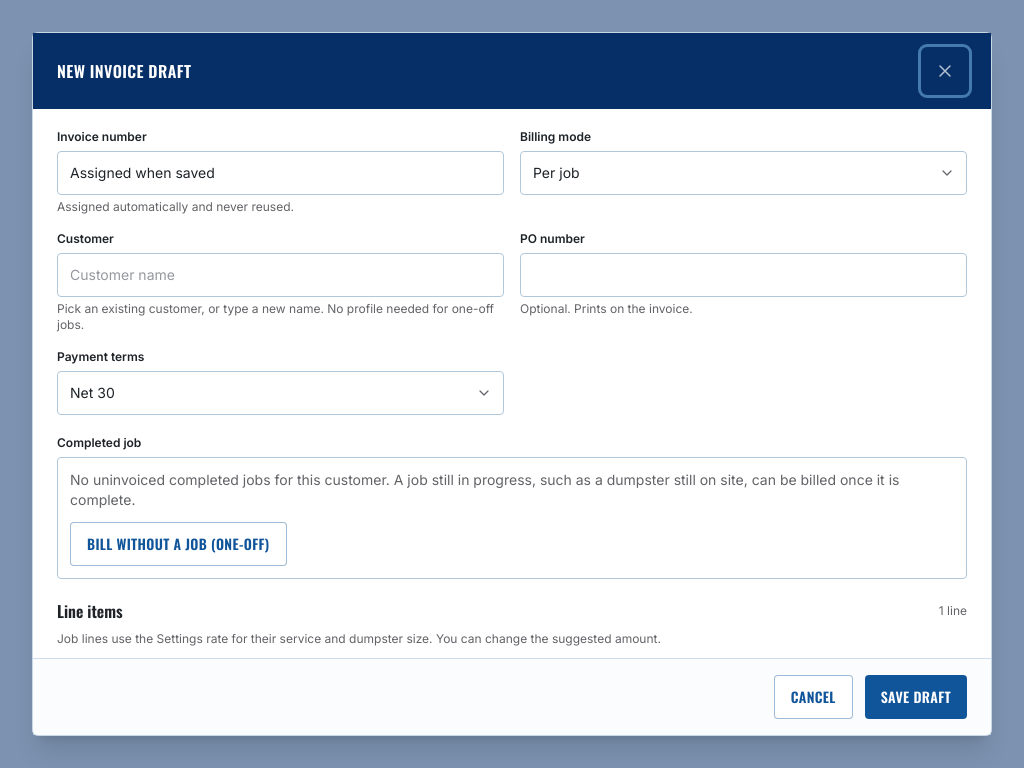
Test case: InvoiceModal — multi-job statement › fills the billing address from the selected job's site in one click
Type "Vegas GC" into the field labelled "Customer" at x=280, y=275, box [57,253,504,297]
(page scrolled)
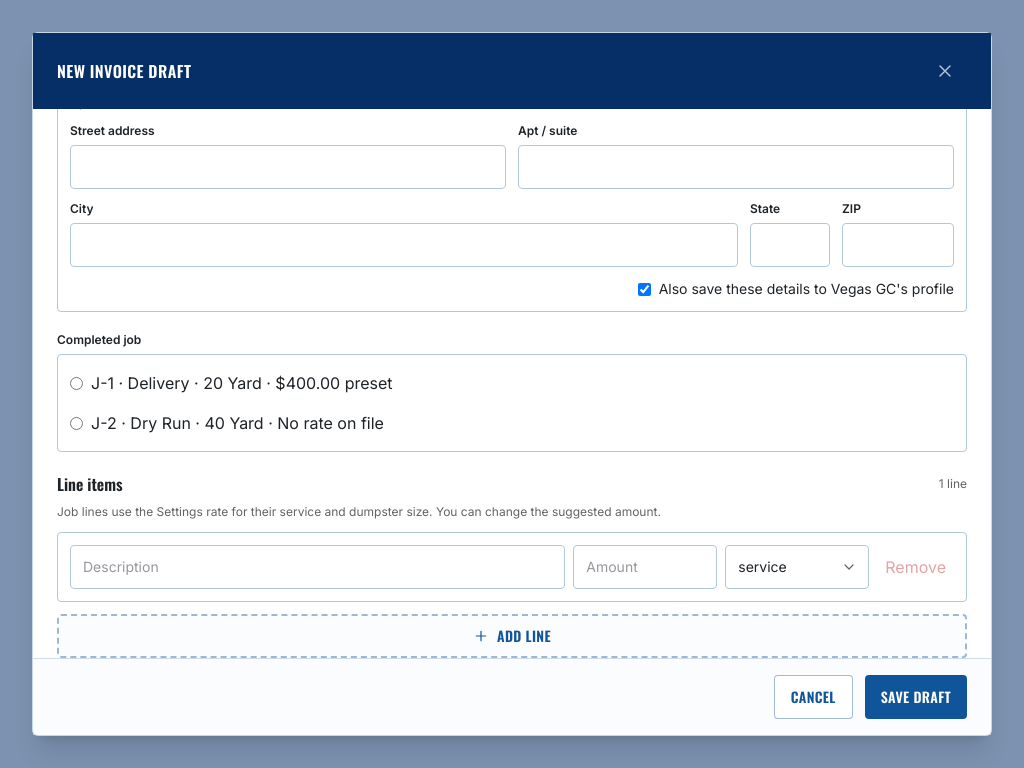
Click the radio button labelled "J-1 · Delivery · 20 Yard · $400.00 preset" at x=76, y=383, box [70,376,83,390]
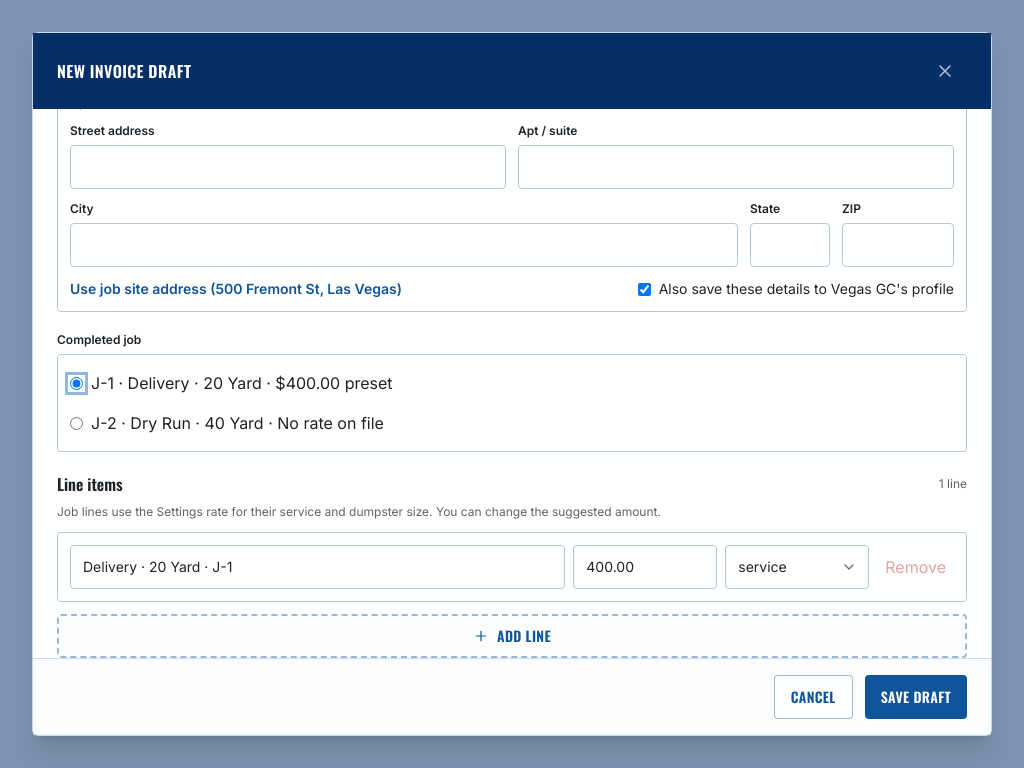
Click the button "Use job site address (500 Fremont St, Las Vegas)" at x=236, y=289, box [70,279,402,299]
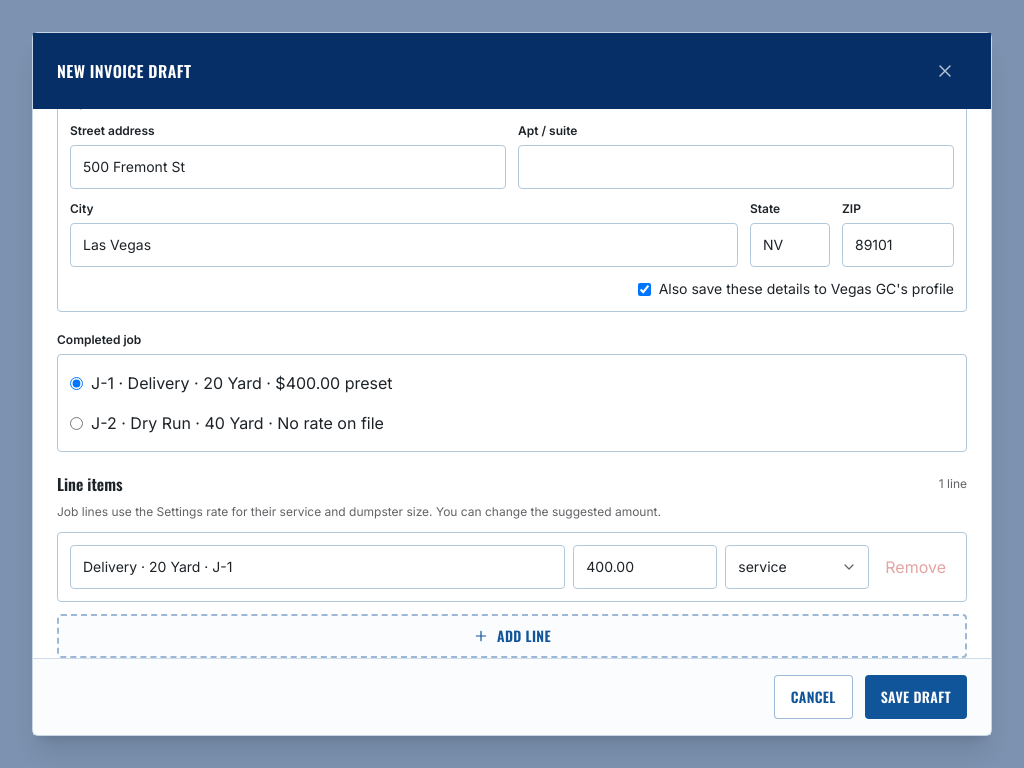
Check: the field labelled "Street address" holds "500 Fremont St", box [70,145,506,189]
Check: the field labelled "City" holds "Las Vegas", box [70,223,738,267]
Check: the field labelled "State" holds "NV", box [750,223,830,267]
